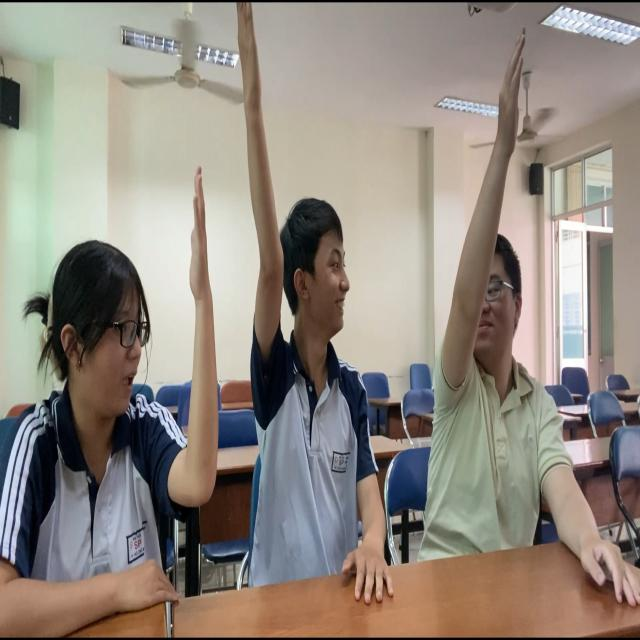raise_hand: (431, 20, 640, 638), (10, 138, 226, 640)
